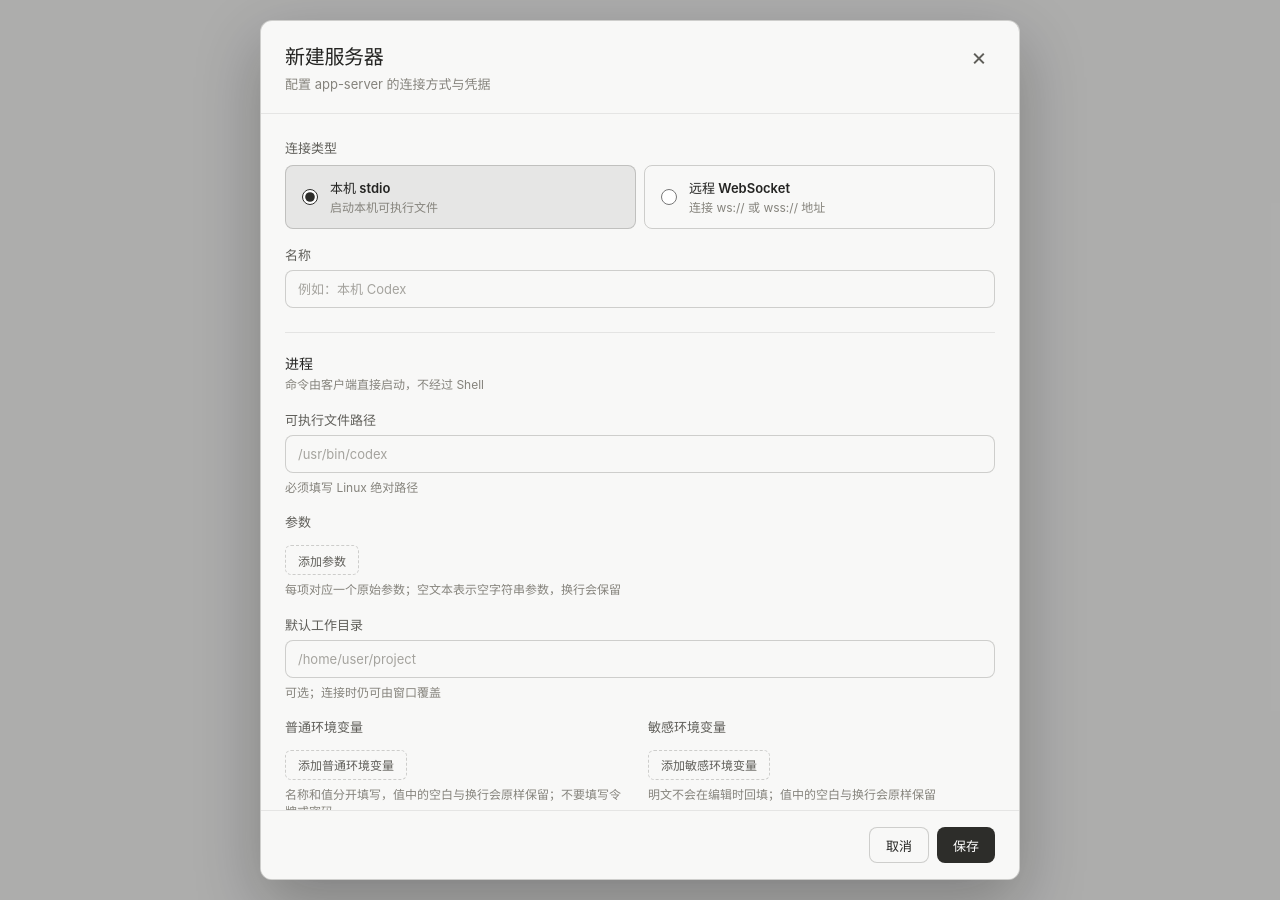
Test case: ServerEditorDialog › 按 URL 解析结果要求确认未加密的 ws 连接
Type "内网 Codex" into the field labelled "名称" at (640, 289), box [285,270,995,308]
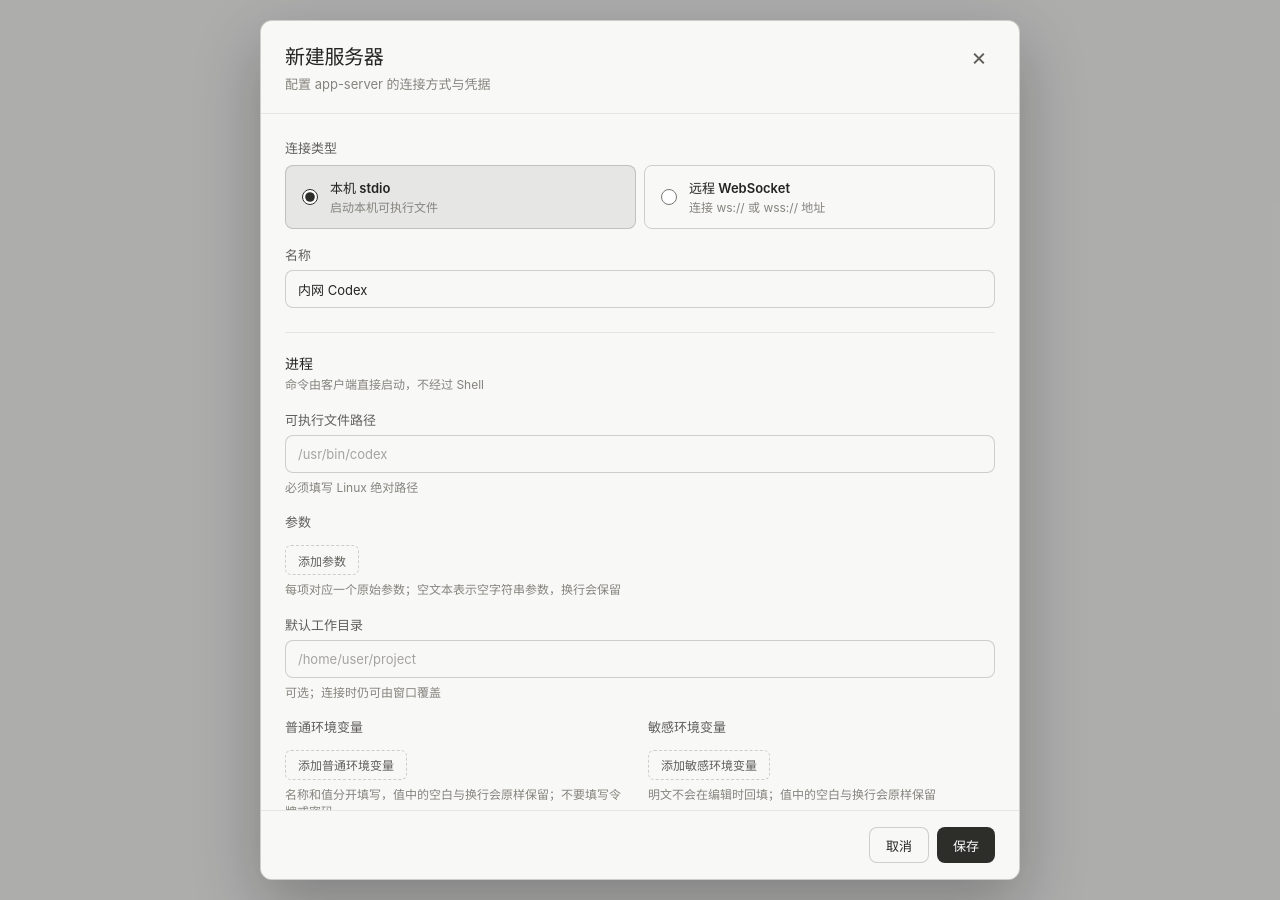
Click the radio button labelled "远程 WebSocket 连接 ws:// 或 wss:// 地址" at (669, 197), box [661,189,677,205]
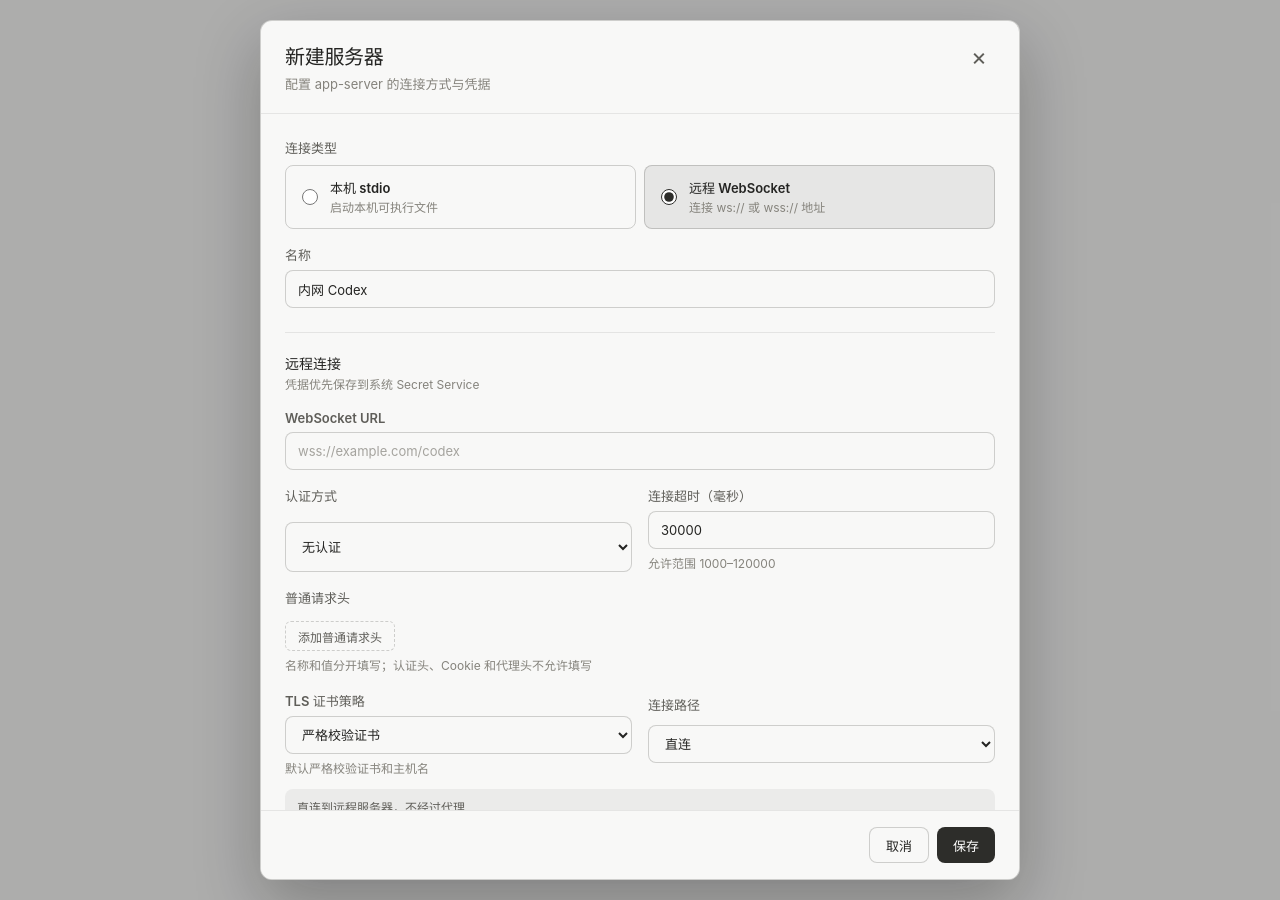
Type "  ws://codex.internal/app-server" into the field labelled "WebSocket URL" at (640, 451), box [285,432,995,470]
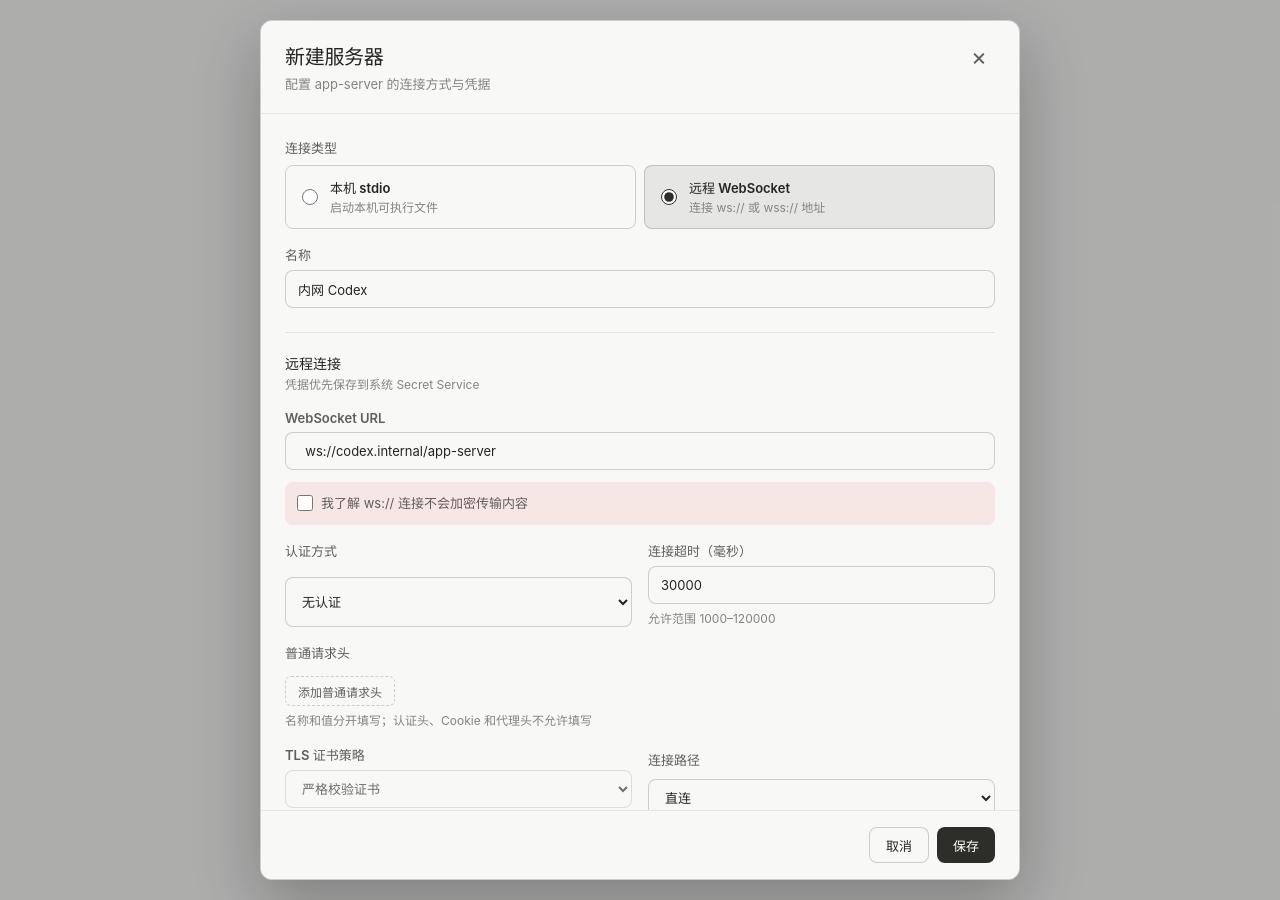
Expected: the checkbox labelled "我了解 ws:// 连接不会加密传输内容" is shown, [297,495,313,511]
Click the button "保存" at (966, 845), box [937,827,995,863]
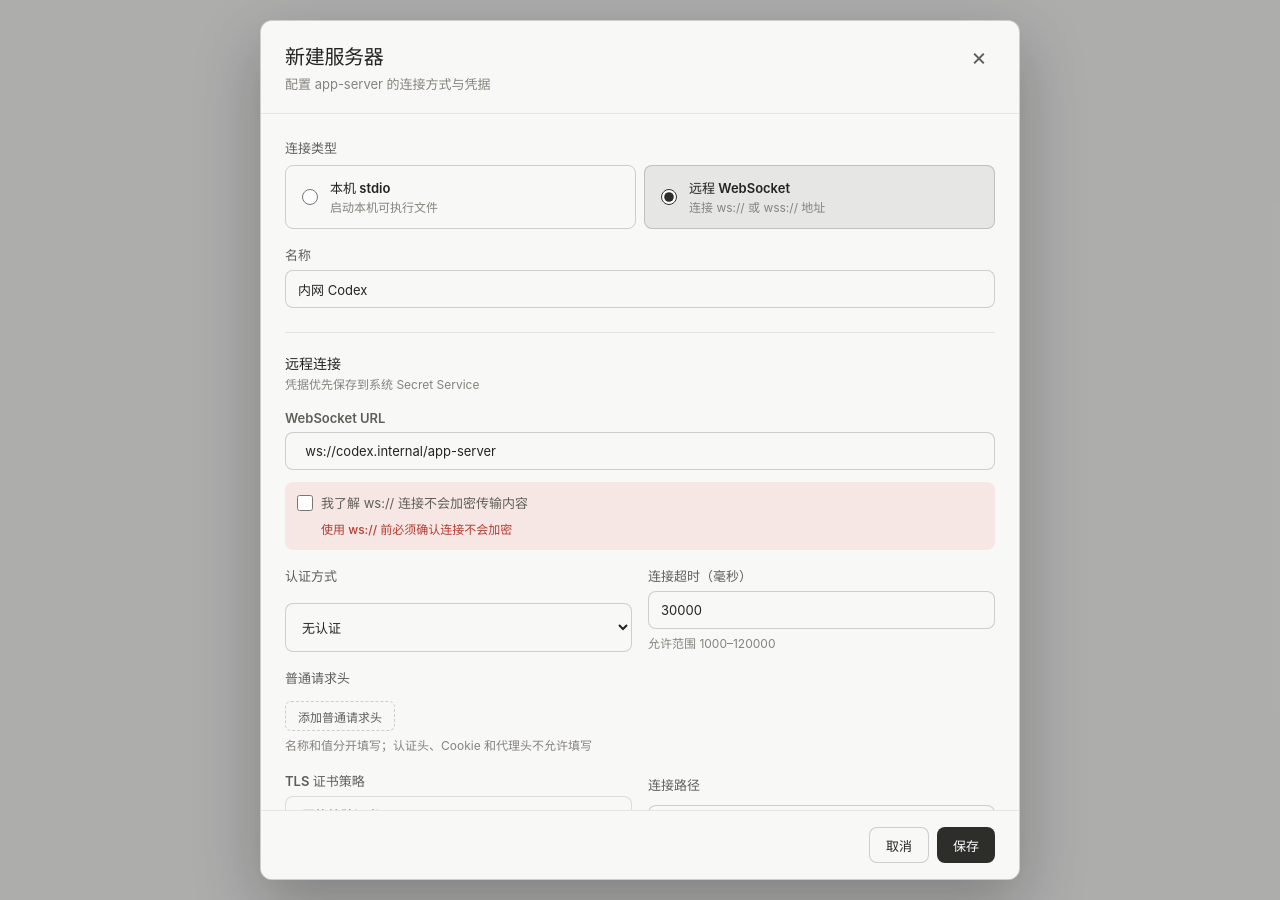
Expected: the text "使用 ws:// 前必须确认连接不会加密" is shown, [321,522,512,537]
